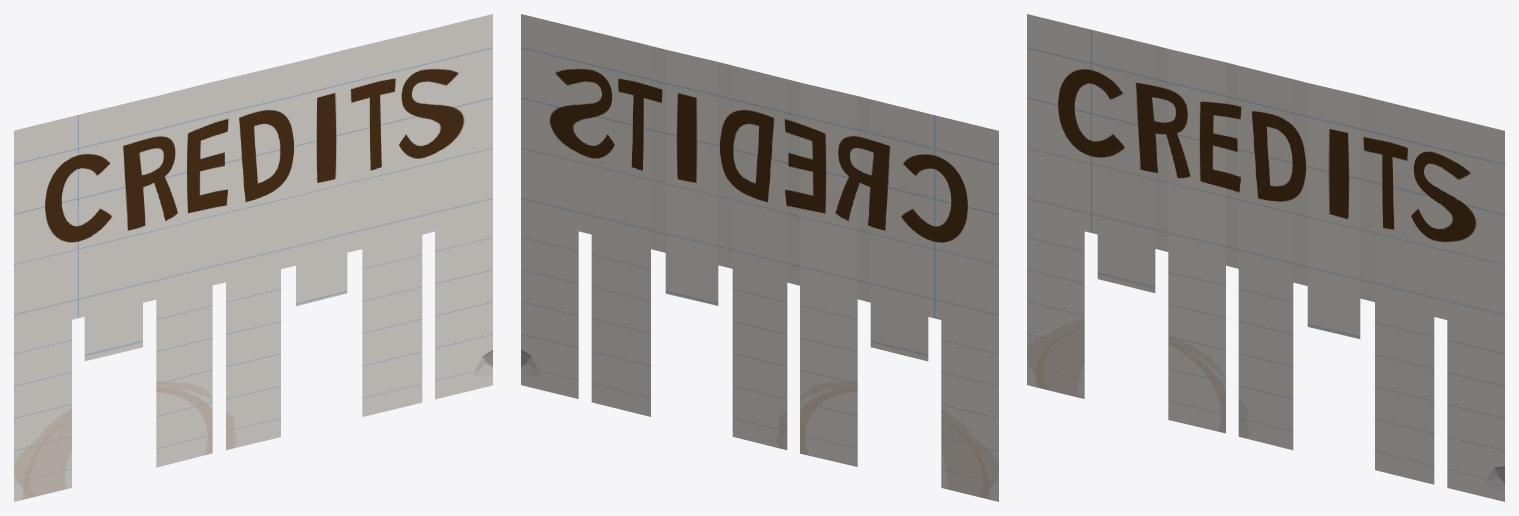
File: menu_credits.fbx
3 views of the same model, side by side, from view 1: azimuth 30°, elevation 25°; view 2: azimuth 150°, elevation 25°; view 3: azimuth 330°, elevation 25° (orthographic).
Visible parts, largest first — view 1: Plane.008; view 2: Plane.008; view 3: Plane.008.
Boxes of the visible parts, left/top/right/bottom form: Plane.008: left=14, top=14, right=492, bottom=501; Plane.008: left=521, top=14, right=998, bottom=501; Plane.008: left=1027, top=14, right=1504, bottom=501.
Bounding box in the file's own units: 40.14 × 29.77 × 0.0916.
